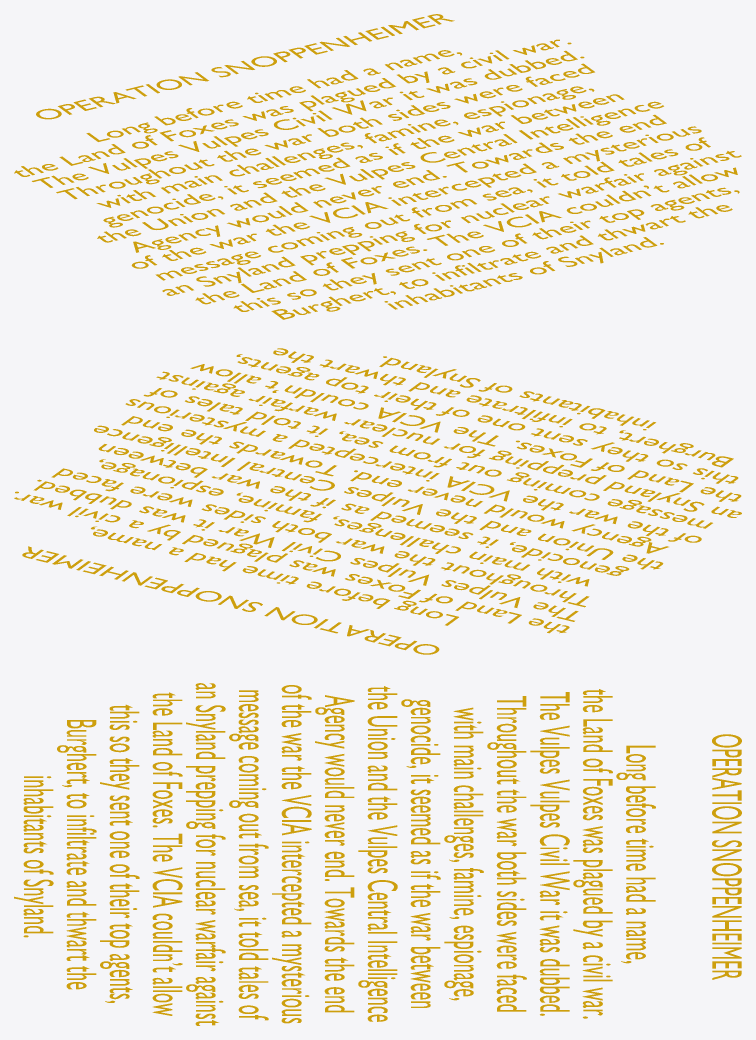
Rendered from title.glb.
3 views of the same model, one above another, from view 1: azimuth 30°, elevation 25°; view 2: azimuth 150°, elevation 25°; view 3: azimuth 270°, elevation 25° (orthographic). The views are drawn at different scales.
Visible parts, largest first — view 1: Text.001; view 2: Text.001; view 3: Text.001.
Boxes of the visible parts, x1=… form: Text.001: x1=14, y1=14, x2=741, y2=319; Text.001: x1=14, y1=348, x2=741, y2=654; Text.001: x1=14, y1=683, x2=741, y2=1025.
Bounding box in the file's own units: 14.12 × 0 × 12.68.
